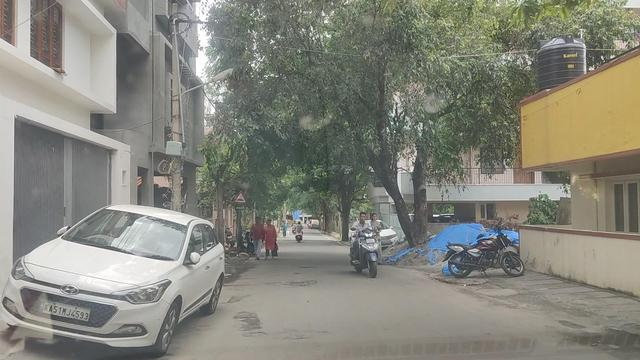LMV: (0, 194, 225, 346), (354, 211, 379, 276)
RoadDamages: (230, 310, 275, 343), (281, 277, 318, 288), (225, 291, 247, 306)
